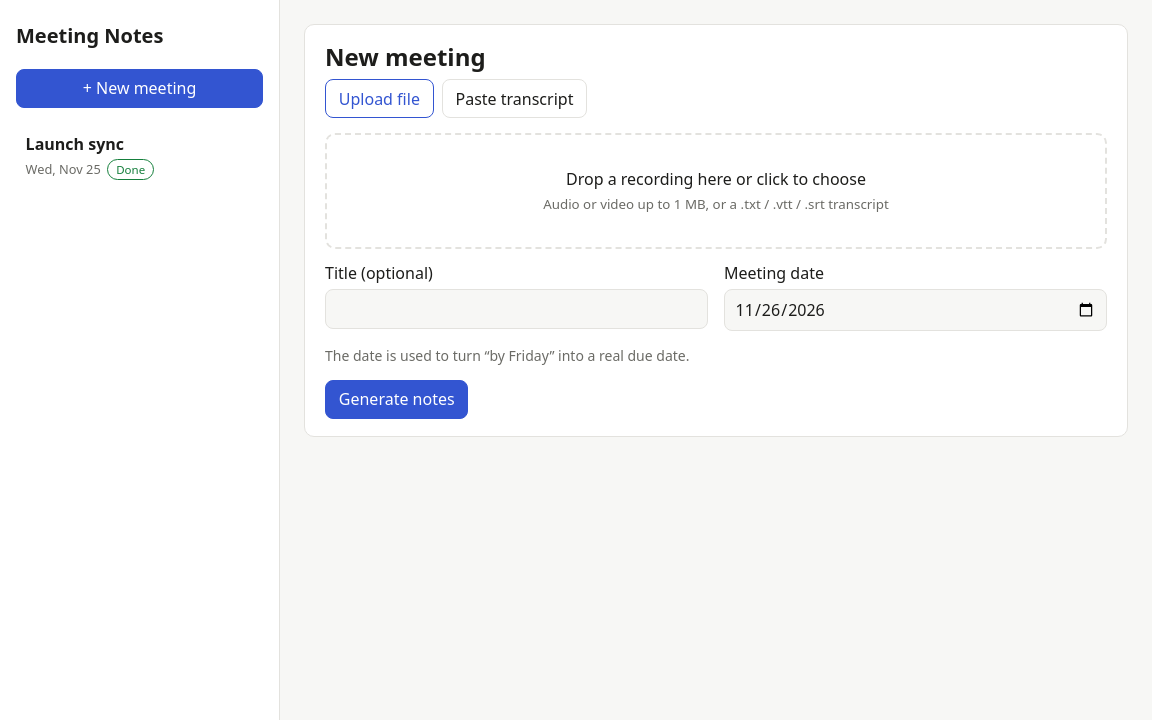
App › lists meetings and opens one
Expected: the form "New meeting" is shown, [304,24,1128,437]
What coordinates should you click on to do the following:
click the button "Launch sync Wed, Nov 25 Done"
I would click on:
 (140, 156)
Its box is [16,124,263,188].
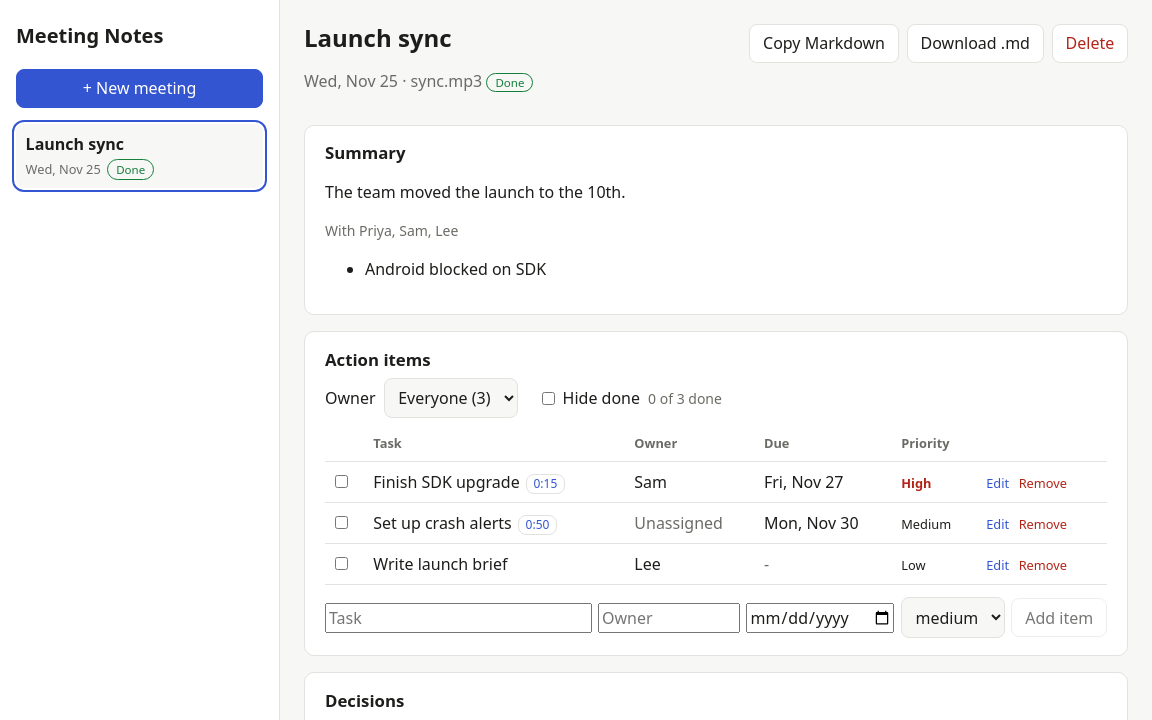
Expected: the text "The team moved the launch to the 10th." is shown, [325,180,626,202]
